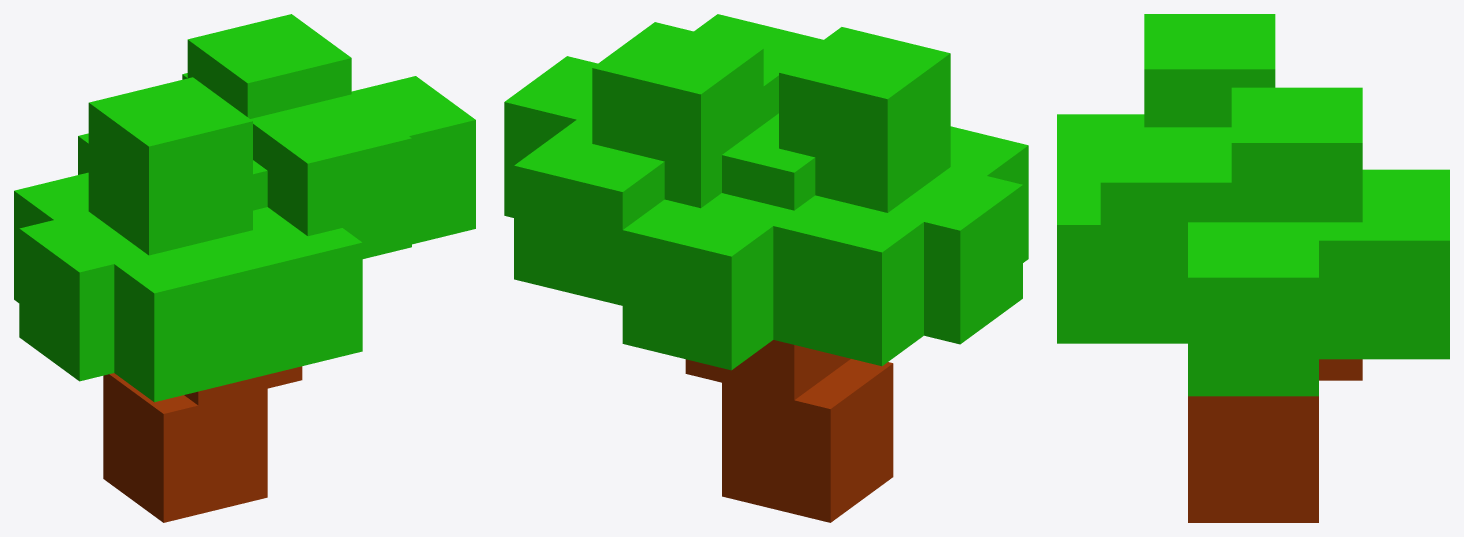
Rendered from Oak3.gltf.
3 views of the same model, side by side, from view 1: azimuth 30°, elevation 25°; view 2: azimuth 150°, elevation 25°; view 3: azimuth 270°, elevation 25° (orthographic). The views are drawn at different scales.
Parts seen in each view (by area): view 1: cube (×11); view 2: cube (×12); view 3: cube (×11).
Boxes of the visible parts, box(x1,y1,x2,y2) form: cube (×11): box(14, 14, 475, 522); cube (×12): box(504, 14, 1028, 522); cube (×11): box(1057, 14, 1449, 522).
Size of the model in its own units: 0.75 by 0.6875 by 0.5625.
Materials: 2 (2 with a texture image).
